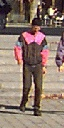person: (15, 19, 50, 114)
